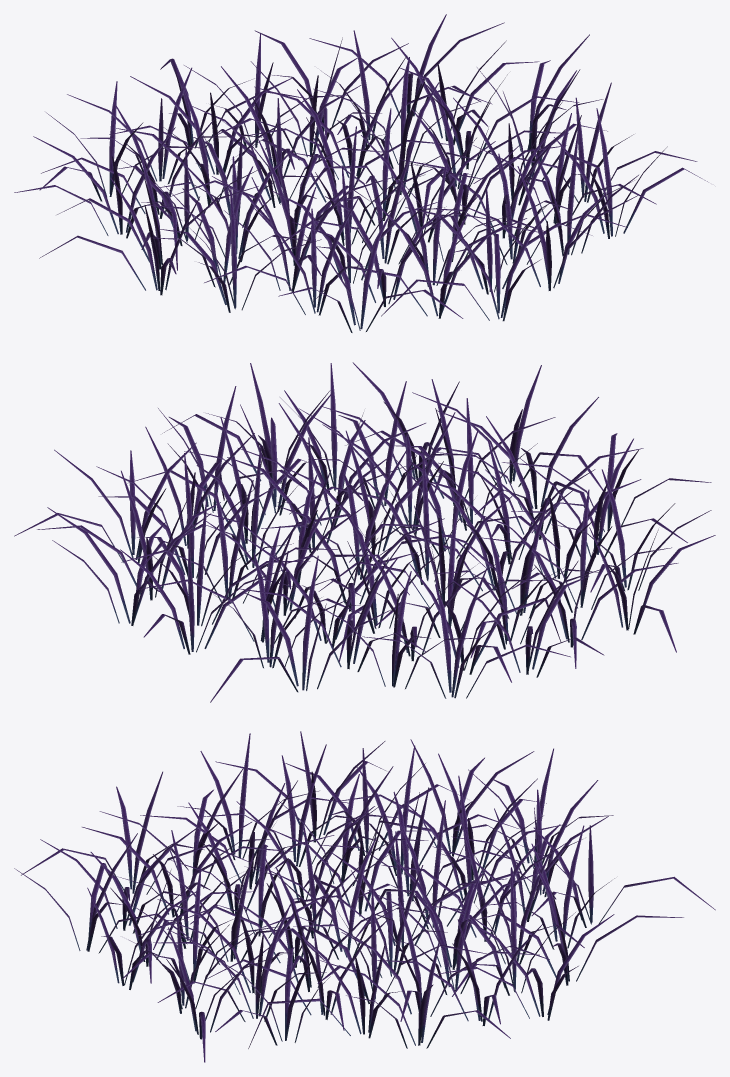
File: grass.glb
3 renders of one model, top to bottom at view 1: azimuth 30°, elevation 25°; view 2: azimuth 150°, elevation 25°; view 3: azimuth 270°, elevation 25°, orthographic. The views are drawn at different scales.
Visible parts, largest first — view 1: Polygon; view 2: Polygon; view 3: Polygon.
Boxes of the visible parts, x1=… form: Polygon: x1=14, y1=14, x2=708, y2=332; Polygon: x1=14, y1=362, x2=715, y2=702; Polygon: x1=14, y1=731, x2=715, y2=1062.
Bounding box in the file's own units: 0.7883 × 0.1368 × 0.8147.
1 material, 1 textured.
